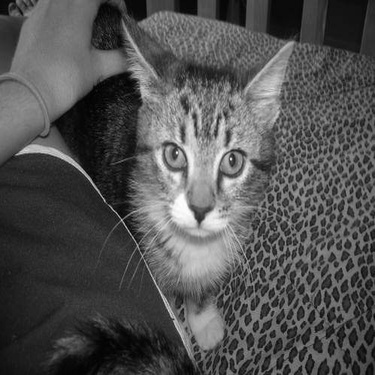cat: (68, 6, 305, 359), (10, 270, 221, 371)
